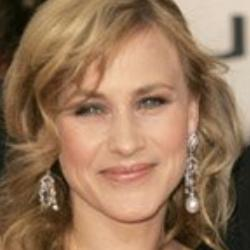face: (3, 1, 241, 246)
